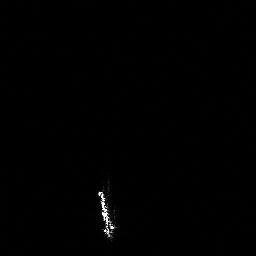ship: (93, 188, 119, 241)
